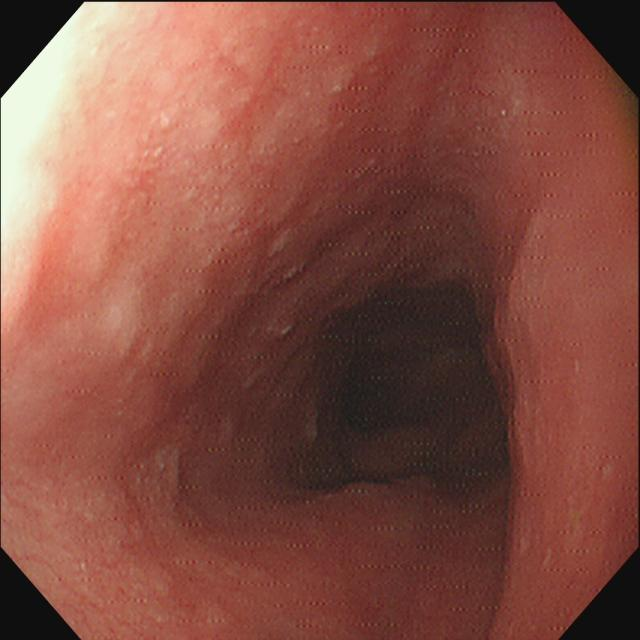E: (305, 284, 501, 492)
